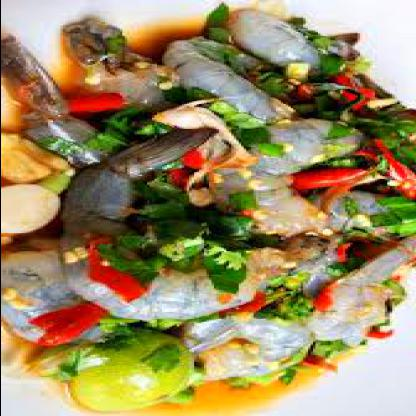Yum: (3, 0, 408, 402)
